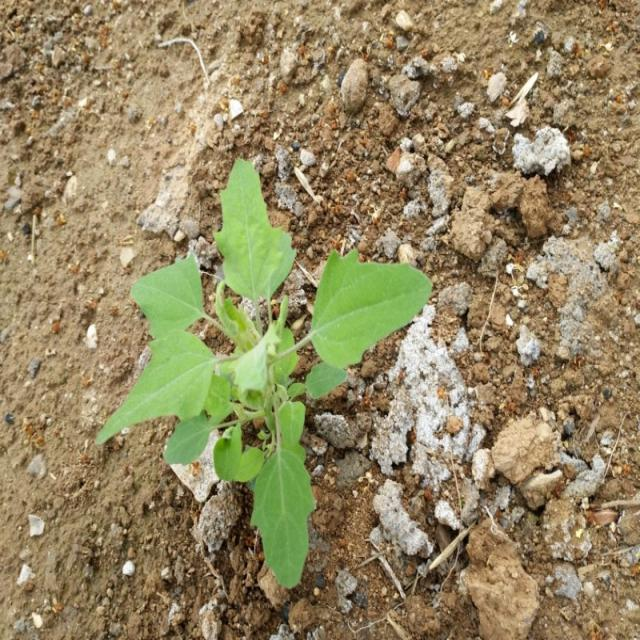ca: (131, 155, 348, 588)
